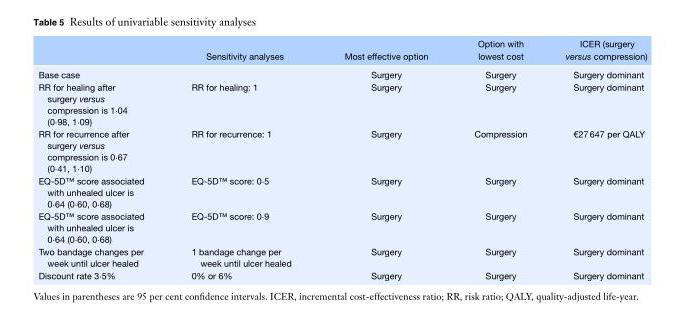table: (37, 37, 646, 281)
table column: (167, 37, 317, 281), (317, 37, 450, 281), (37, 37, 167, 281), (545, 37, 646, 281), (450, 37, 545, 281)
table column header: (37, 37, 646, 64)
table row: (37, 80, 646, 127), (37, 127, 646, 174), (37, 209, 646, 245), (37, 174, 646, 209), (37, 37, 646, 64), (37, 245, 646, 268), (37, 64, 646, 80), (37, 268, 646, 281)
